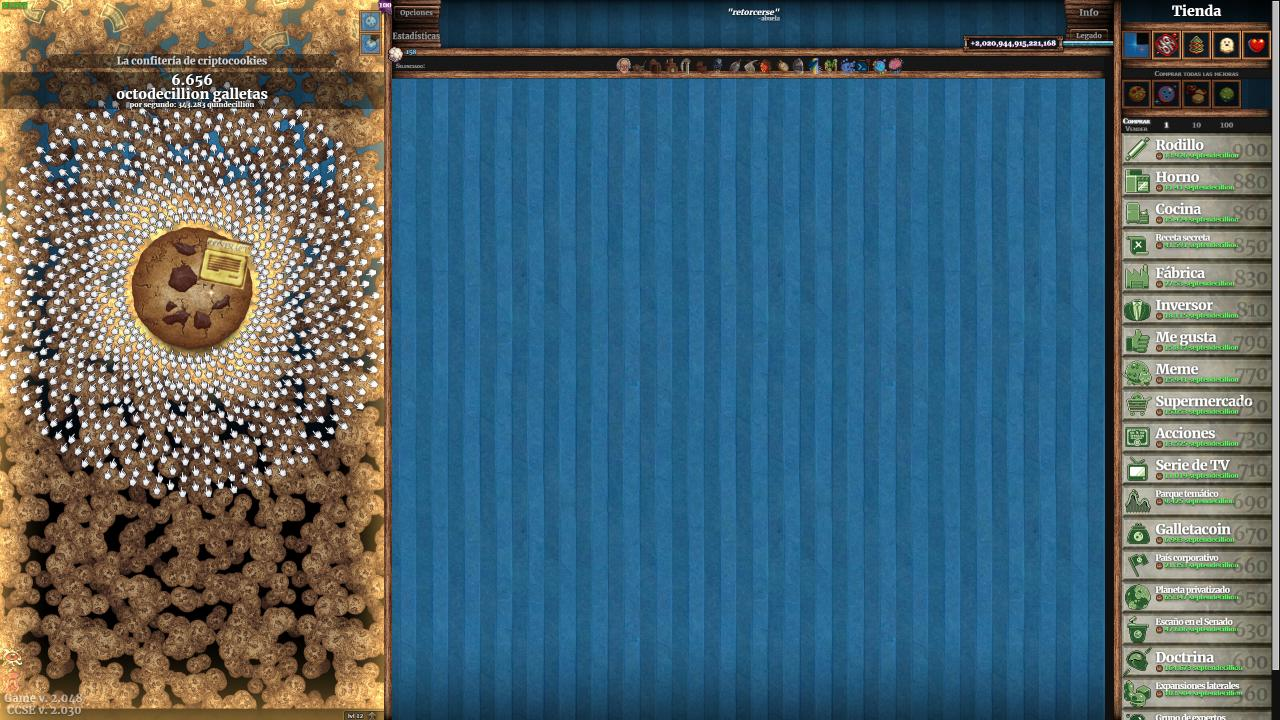GoldenCartridge: (198, 234, 255, 291)
